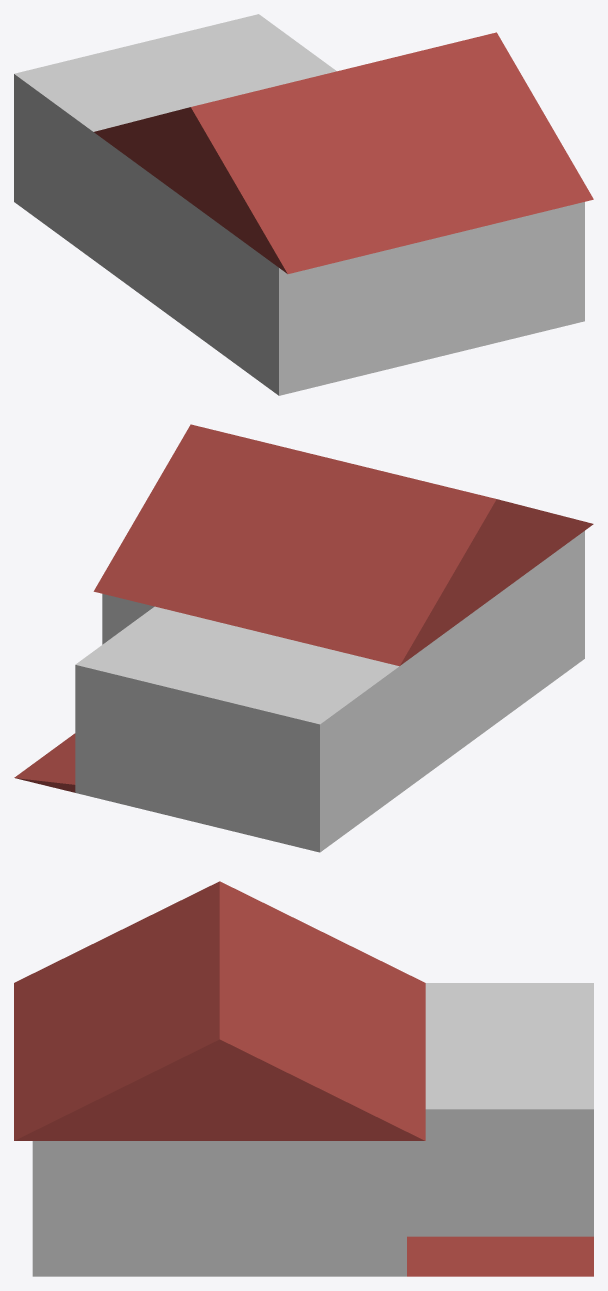
Rendered from BaseHaus_1.fbx.
The picture shows the model from 3 angles, top to bottom: view 1: azimuth 30°, elevation 25°; view 2: azimuth 150°, elevation 25°; view 3: azimuth 270°, elevation 25°; orthographic projection. The views are drawn at different scales.
Parts seen in each view (by area): view 1: Einfahrt; view 2: Einfahrt; view 3: Einfahrt.
Part boxes in pixels (bbox=[...]): Einfahrt: bbox=[14, 14, 593, 395]; Einfahrt: bbox=[14, 424, 593, 852]; Einfahrt: bbox=[14, 881, 593, 1276].
Size of the model in its own units: 2000 by 1400 by 3100.
